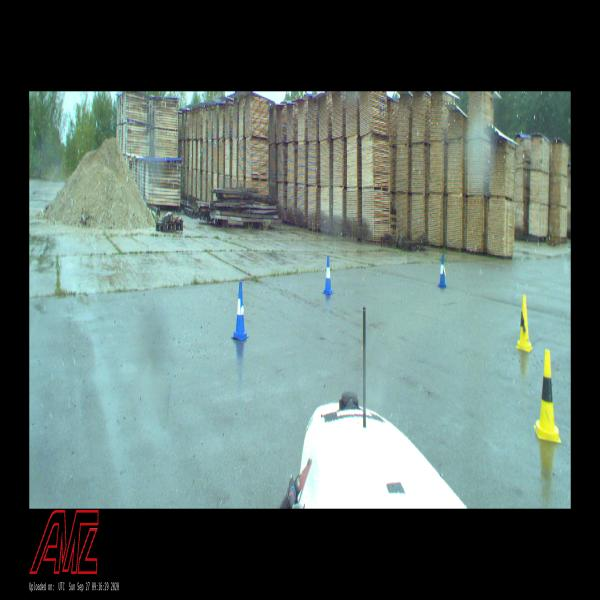blue_cone: (232, 281, 249, 341), (322, 256, 334, 296), (437, 255, 446, 288)
yellow_cone: (534, 350, 562, 444), (516, 295, 533, 351)
